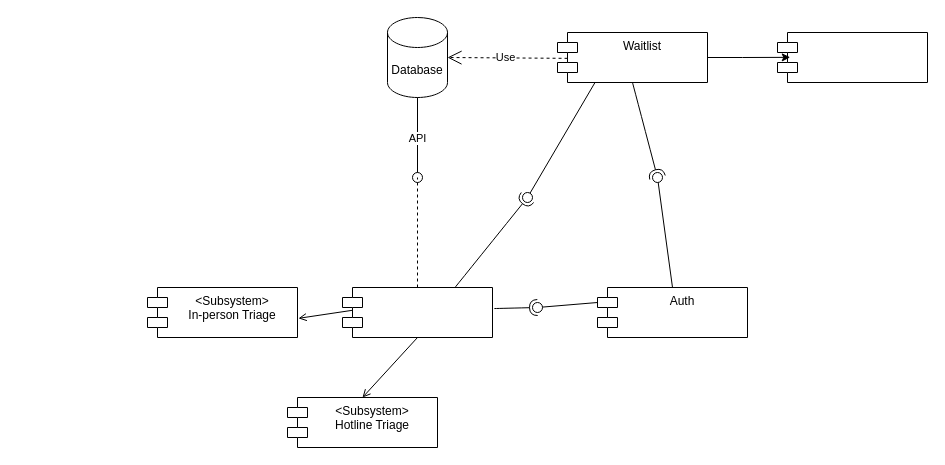
Image size: 945x465. Some labels were removed from this diagram. Each missing label, with the centre of its shape:
<Subsystem> Enter Waitlist: (x=852, y=57)
Triage: (x=417, y=312)
